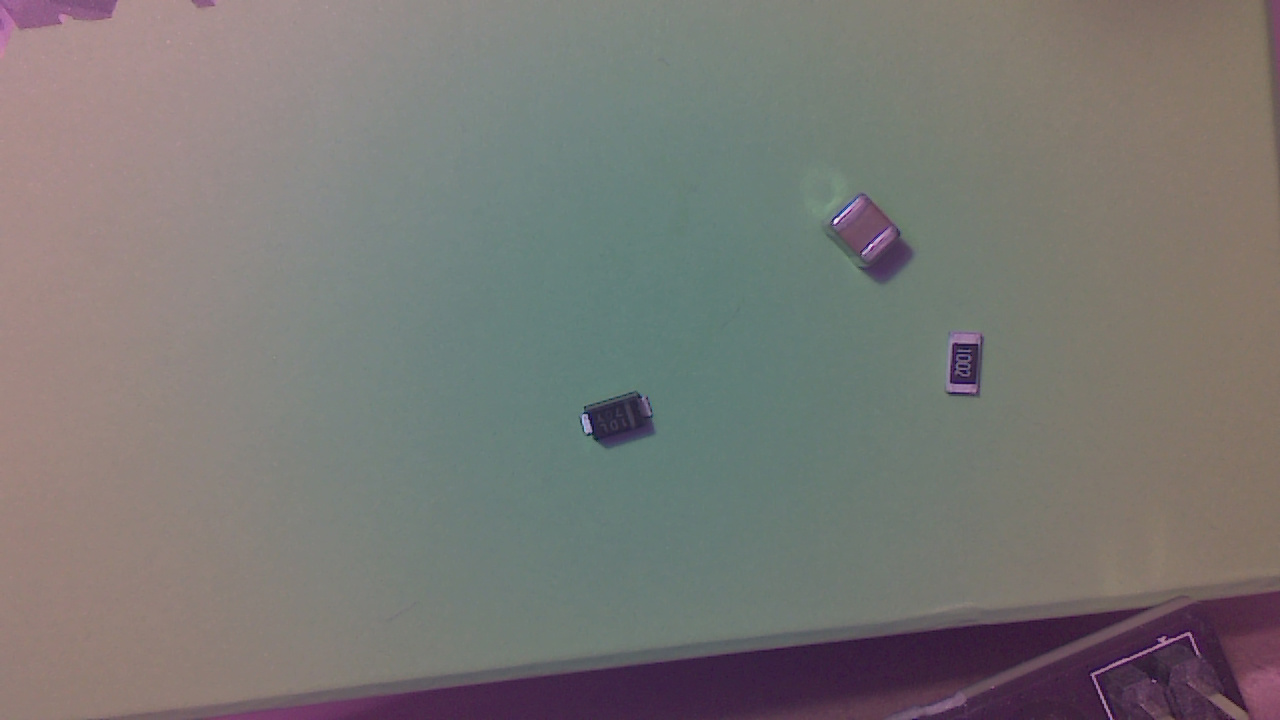Condensator: (829, 200, 907, 277)
Diode: (583, 393, 661, 448)
Resistor: (950, 336, 991, 404)
